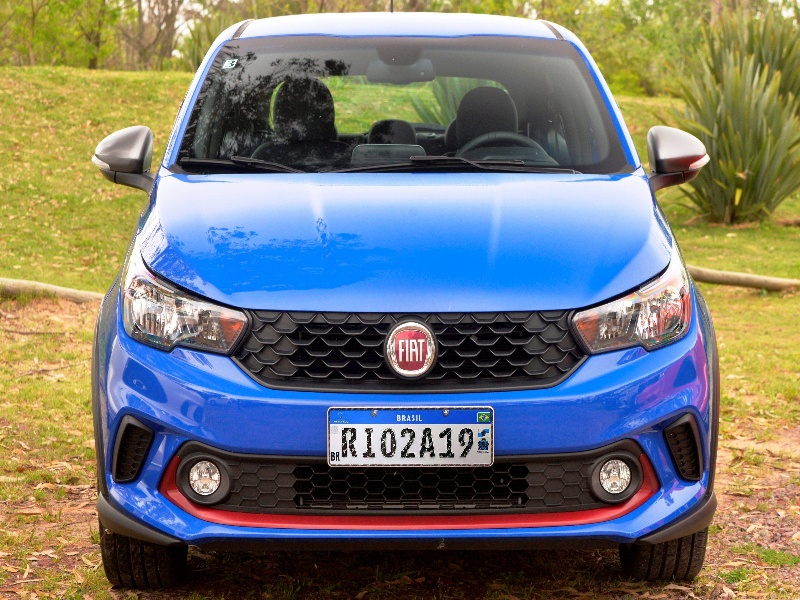placa: (325, 404, 496, 470)
